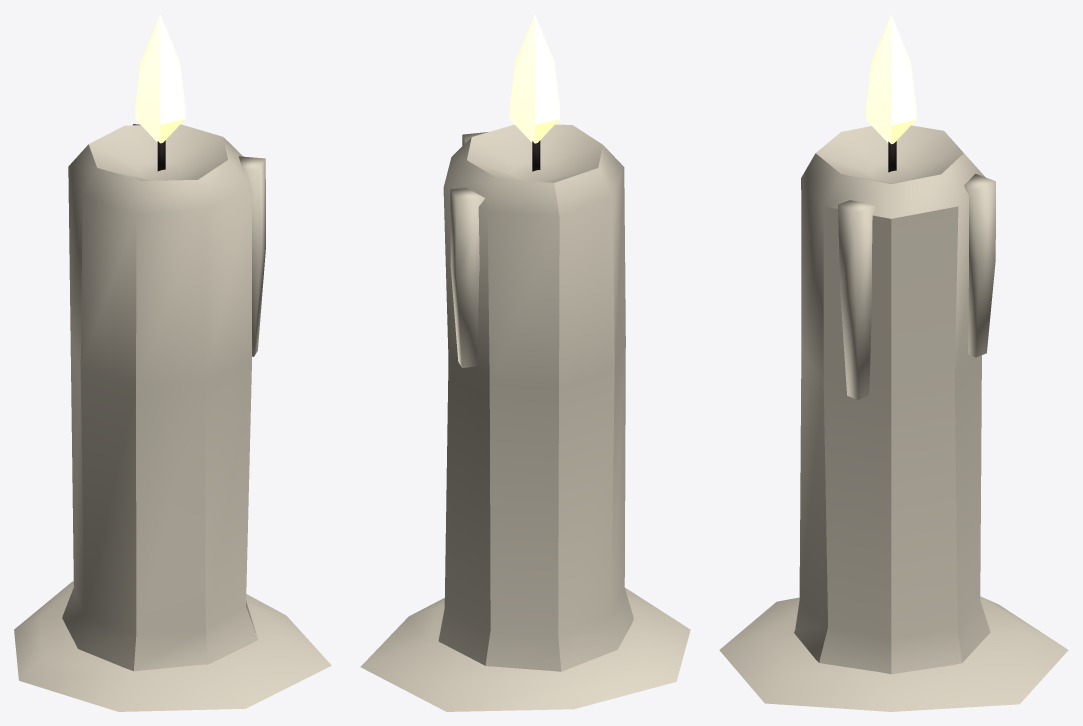
Rendered from candle.glb.
3 views of the same model, side by side, from view 1: azimuth 30°, elevation 25°; view 2: azimuth 150°, elevation 25°; view 3: azimuth 270°, elevation 25° (orthographic).
Parts seen in each view (by area): view 1: candle; view 2: candle; view 3: candle.
Part boxes in pixels (x1,y1,x2,y2): candle: [14, 14, 331, 711]; candle: [360, 14, 690, 711]; candle: [719, 14, 1068, 711].
Bounding box in the file's own units: 0.17 × 0.384 × 0.1912.
